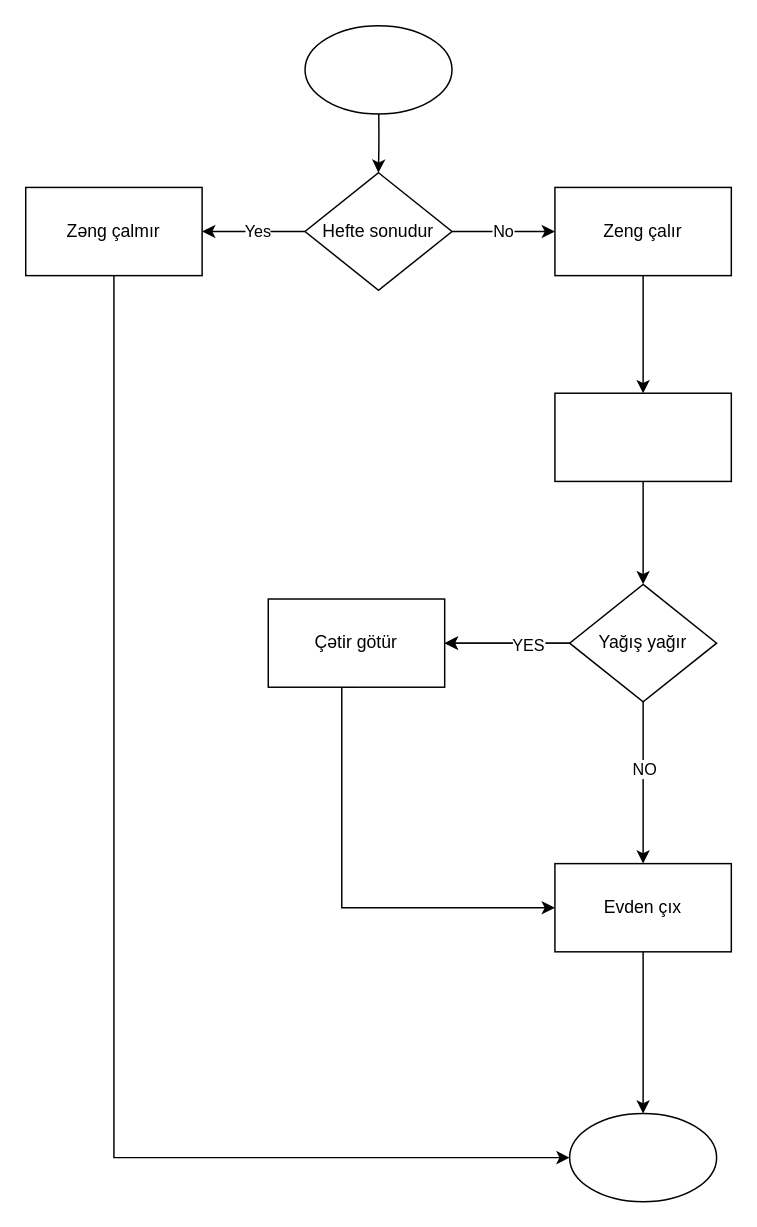
Image size: 757x1227. Some labels were removed from this diagram. Each missing label, with the centre of its shape:
Durursan: pixel 642 436
END: pixel 642 1157
START: pixel 378 69
